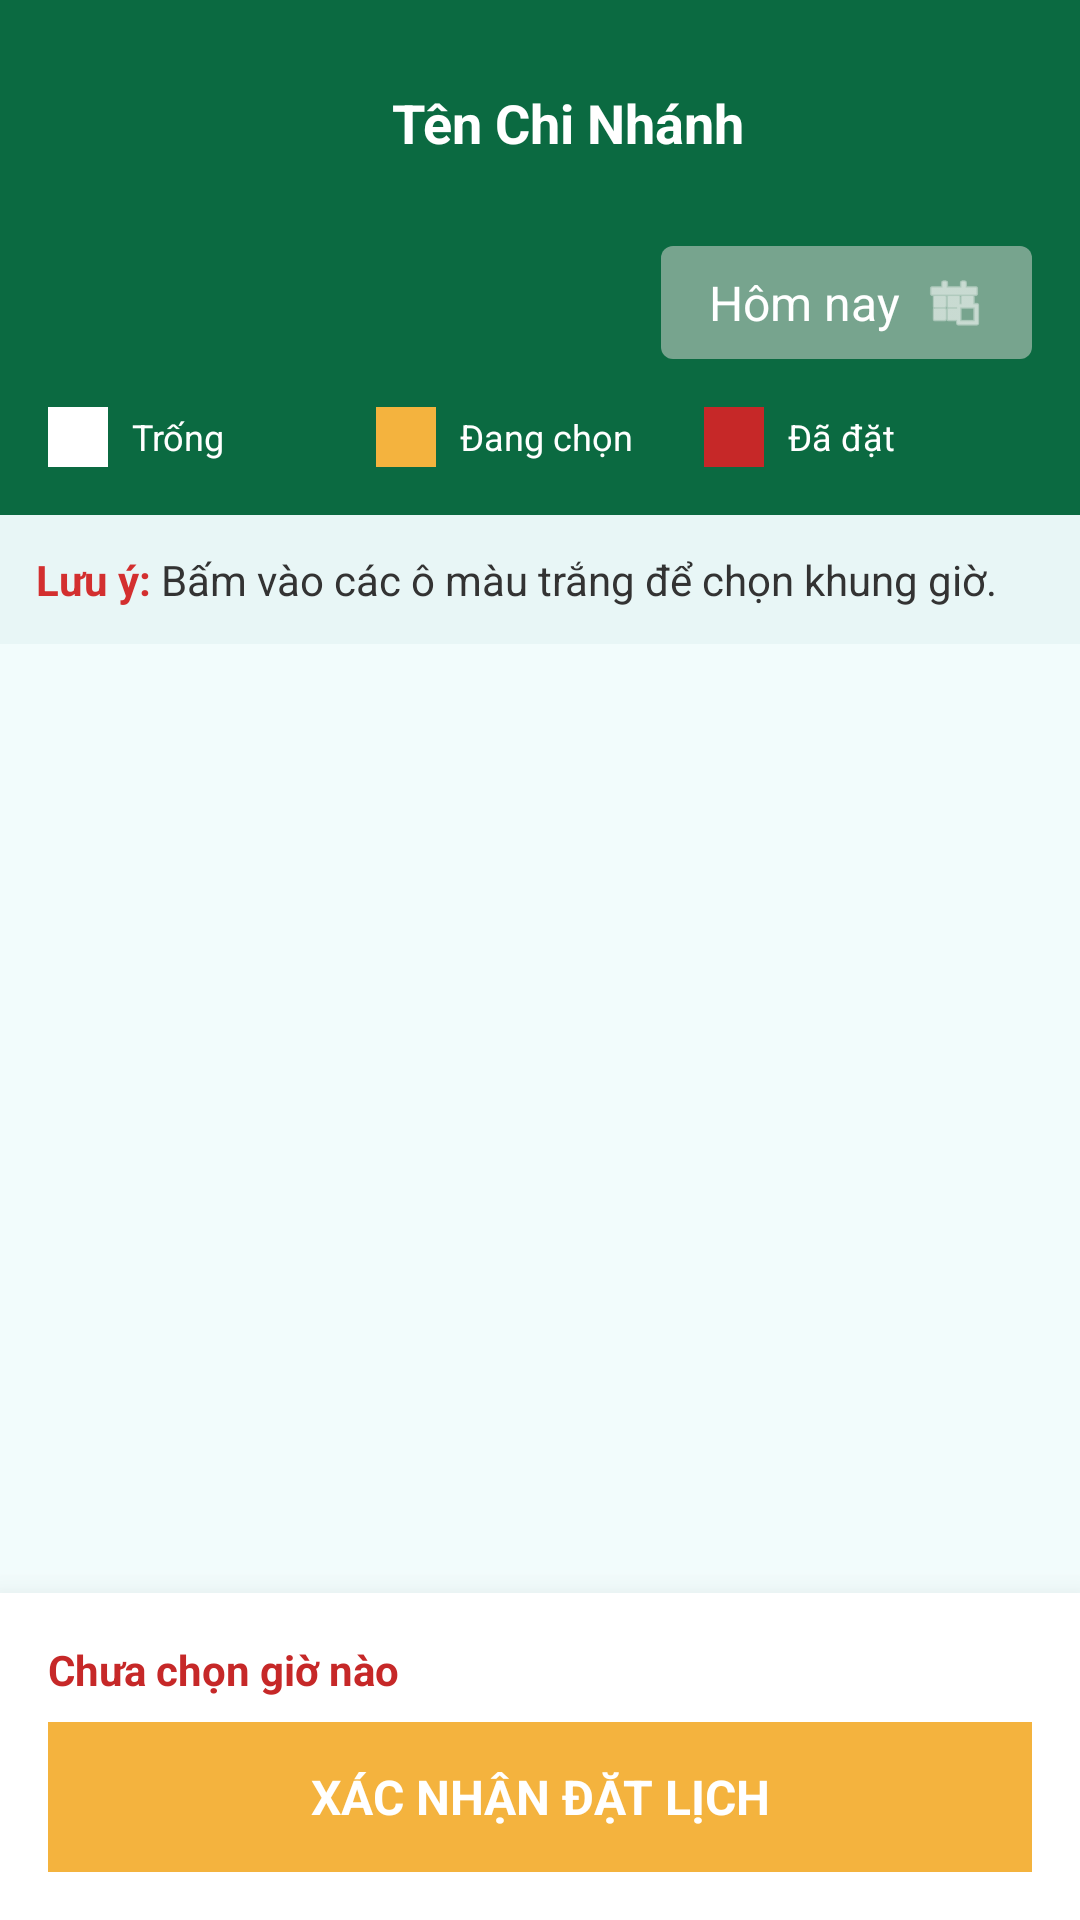

Icons on this 1080 x 1920 Android screen, each with its box as detection(x1, y1, x2, y2):
today: detection(930, 280, 979, 326)
